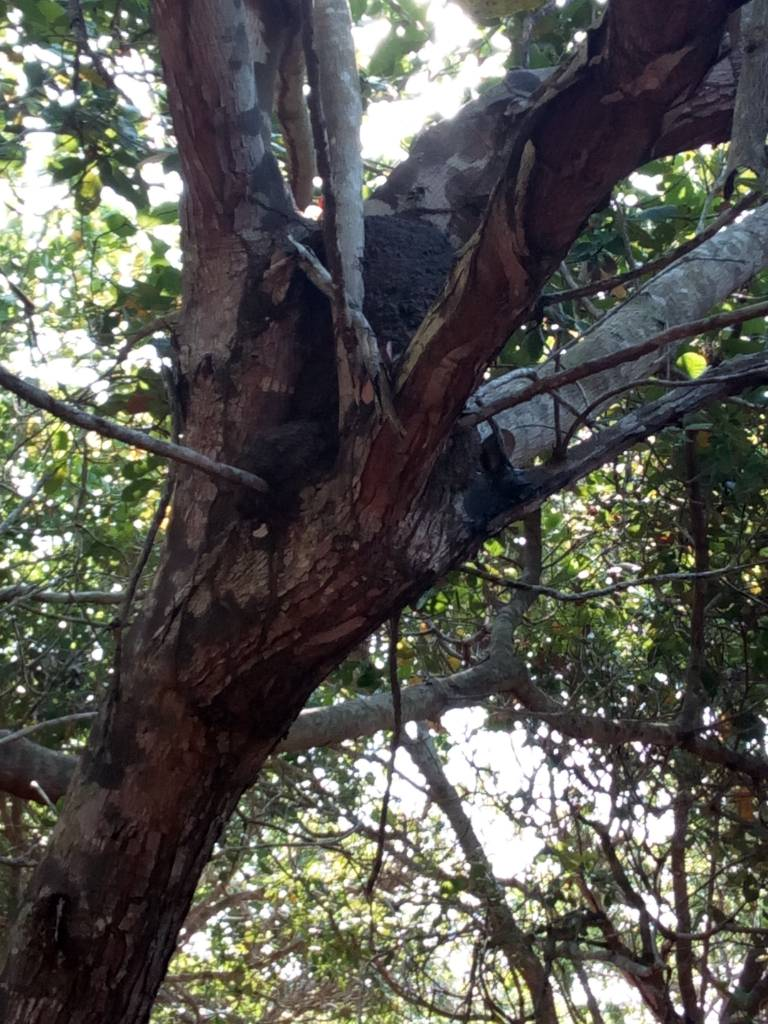Termites: (372, 217, 446, 344)
